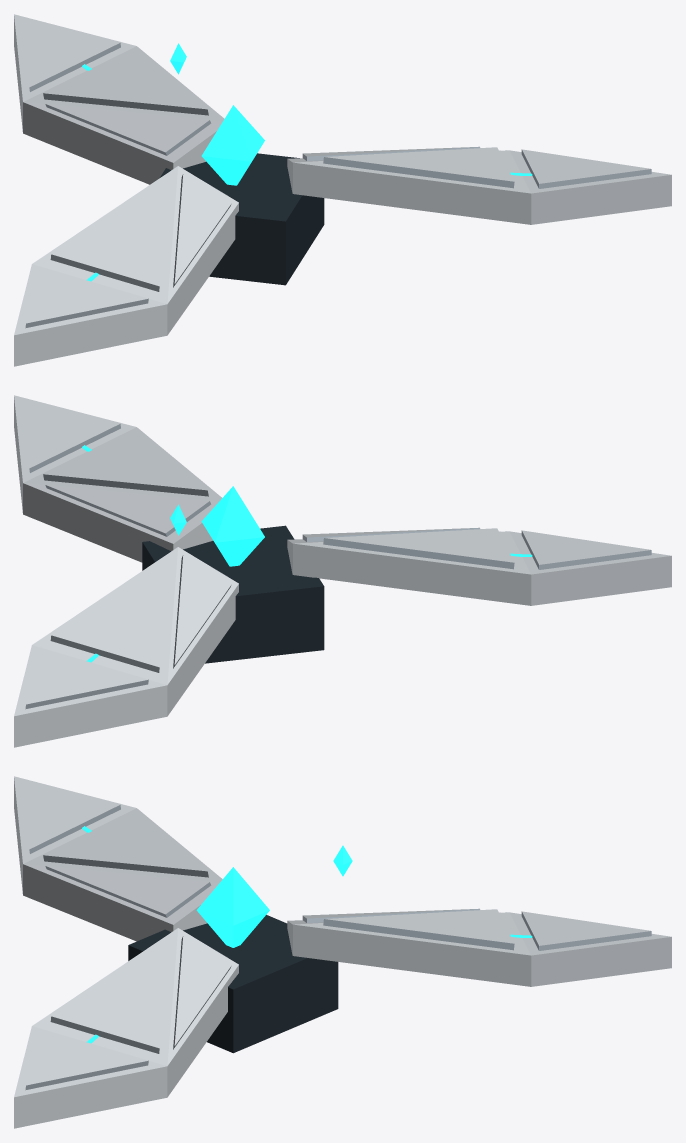
The model's file is 01_aussenposten.glb.
3 views of the same model, one above another, from view 1: azimuth 30°, elevation 25°; view 2: azimuth 150°, elevation 25°; view 3: azimuth 270°, elevation 25° (orthographic).
Visible parts, largest first — view 1: Hull; view 2: Hull; view 3: Hull.
Part boxes in pixels (box(x1,y1,x2,y2)): Hull: box(14, 14, 671, 366); Hull: box(14, 395, 671, 747); Hull: box(14, 776, 671, 1128).
Bounding box in the file's own units: 10 × 2.38 × 8.66.
